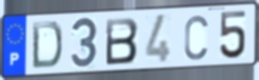3: (70, 15, 99, 72)
4: (144, 12, 174, 66)
5: (219, 9, 248, 61)
B: (104, 16, 140, 67)
C: (183, 13, 210, 62)
D: (30, 20, 64, 71)
